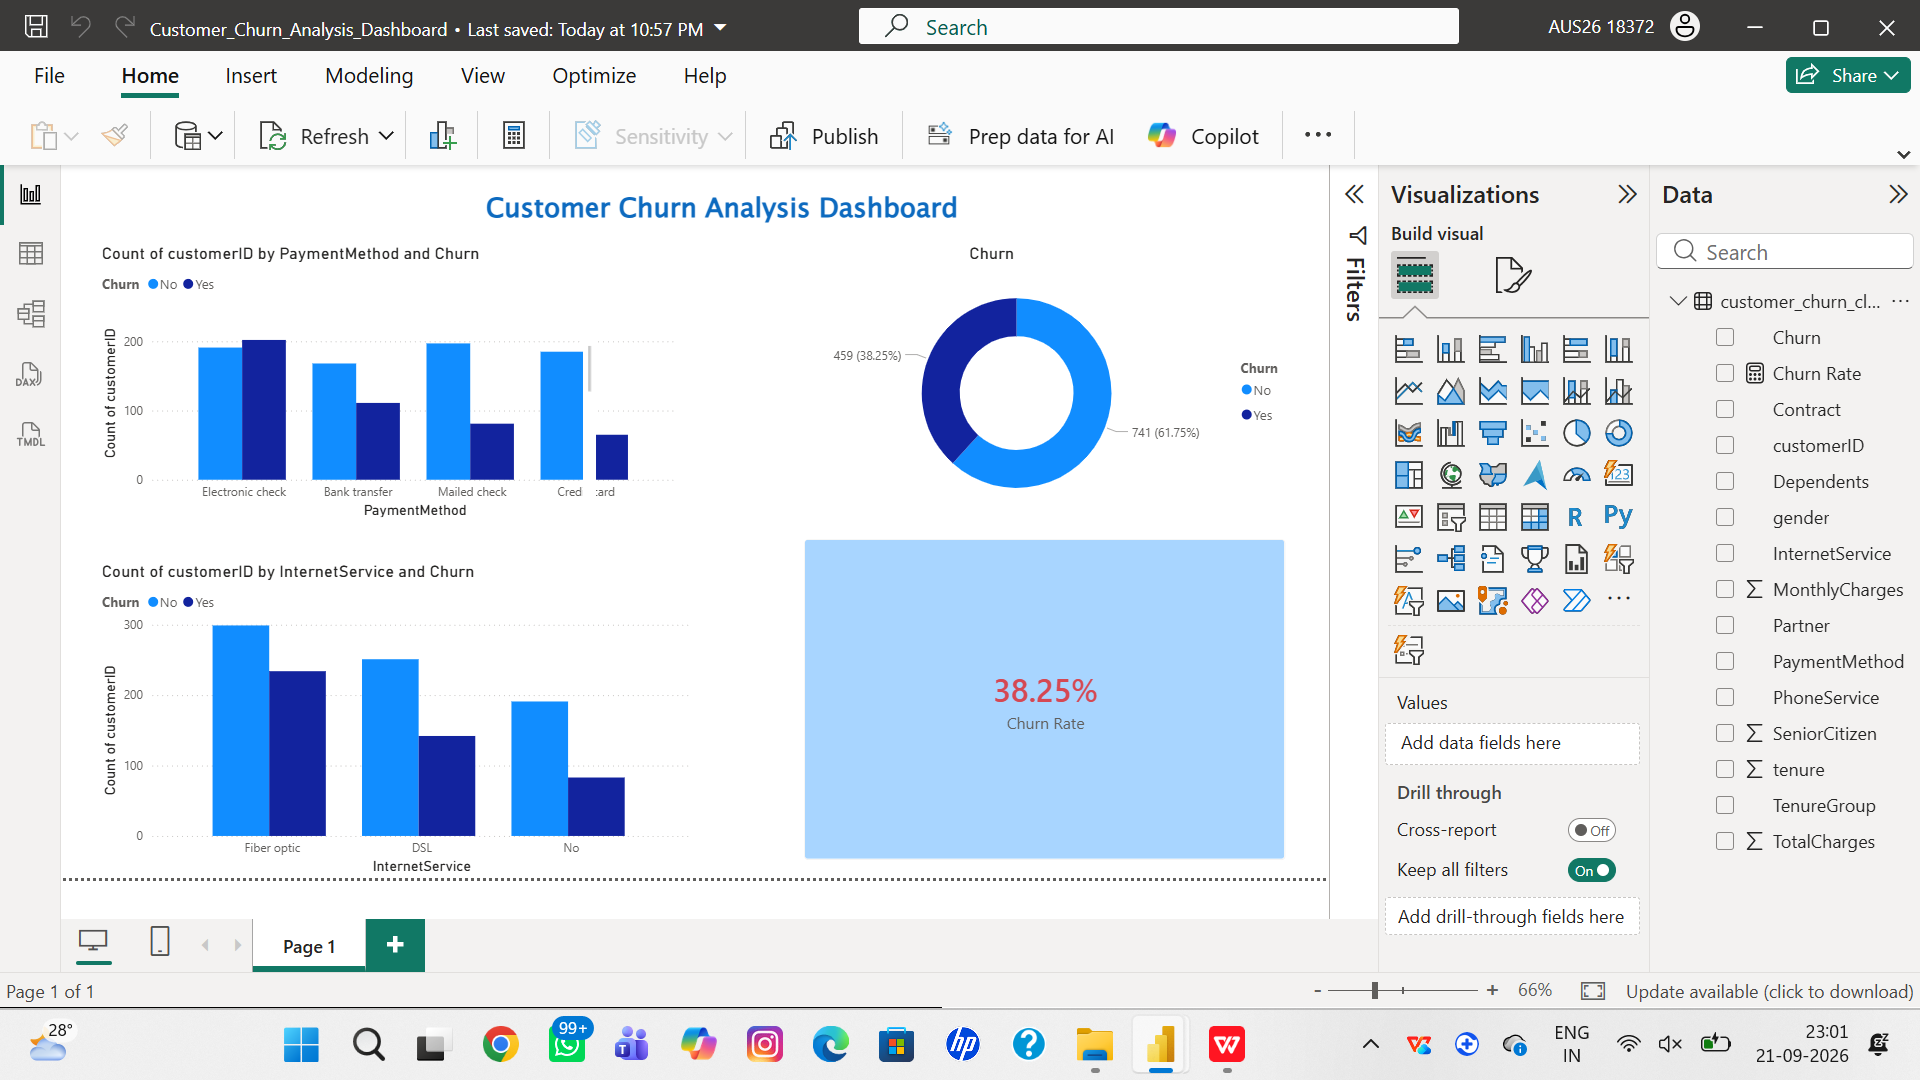

What the dashboard file says about the page in this screenshot:
{"tool":"powerbi","page":{"name":"Page 1","canvas":[1280,720],"ordinal":0},"visuals":[{"type":"clusteredColumnChart","fields":{"Category":["customer_churn_cleaned.PaymentMethod"],"Y":["CountNonNull(customer_churn_cleaned.customerID)"],"Series":["customer_churn_cleaned.Churn"]},"box":[36.3,78.7,590.5,281.6],"z":0},{"type":"clusteredColumnChart","fields":{"Category":["customer_churn_cleaned.InternetService"],"Y":["CountNonNull(customer_churn_cleaned.customerID)"],"Series":["customer_churn_cleaned.Churn"]},"box":[36.4,400.3,604.1,320.2],"z":1},{"type":"donutChart","fields":{"Category":["customer_churn_cleaned.Churn"],"Y":["CountNonNull(customer_churn_cleaned.customerID)"]},"box":[732.9,78.7,520.9,281.6],"z":2},{"type":"textbox","box":[526.9,177.6,13.1,222.7],"z":4},{"type":"textbox","box":[423.6,17.5,493.4,88.8],"z":5},{"type":"cardVisual","fields":{"Data":["customer_churn_cleaned.Churn Rate"]},"box":[732.9,360.4,520.9,358.9],"z":6}]}

Visuals, with their boxes on the page's 1280x720 design canvas (x1, y1, x2, y2). These are canvas units, not pixel positions in the 1920x1080 screenshot, which may show the page scaled, cropped or inside an application window:
clusteredColumnChart - customer_churn_cleaned.PaymentMethod x CountNonNull(customer_churn_cleaned.customerID): [x1=36, y1=79, x2=627, y2=360]
clusteredColumnChart - customer_churn_cleaned.InternetService x CountNonNull(customer_churn_cleaned.customerID): [x1=36, y1=400, x2=640, y2=720]
donutChart - customer_churn_cleaned.Churn x CountNonNull(customer_churn_cleaned.customerID): [x1=733, y1=79, x2=1254, y2=360]
textbox: [x1=527, y1=178, x2=540, y2=400]
textbox: [x1=424, y1=18, x2=917, y2=106]
cardVisual - customer_churn_cleaned.Churn Rate: [x1=733, y1=360, x2=1254, y2=719]
